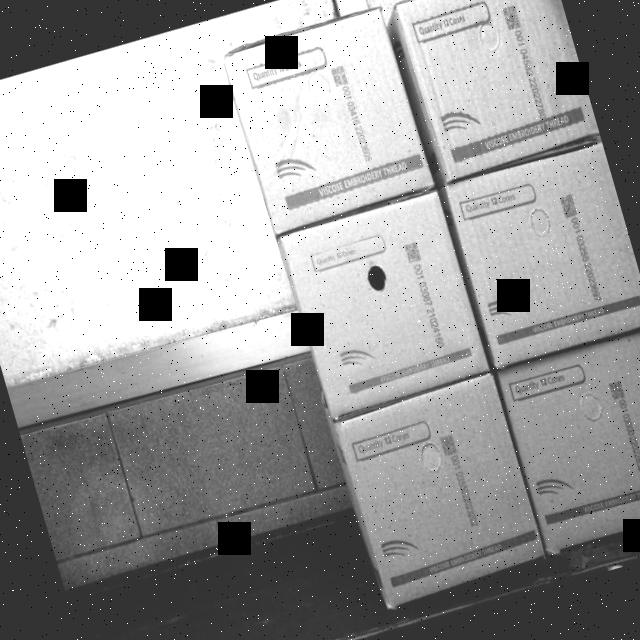box: (219, 1, 435, 231), (332, 373, 544, 604), (278, 188, 491, 414), (442, 140, 640, 366), (397, 0, 599, 177), (496, 328, 640, 556)
